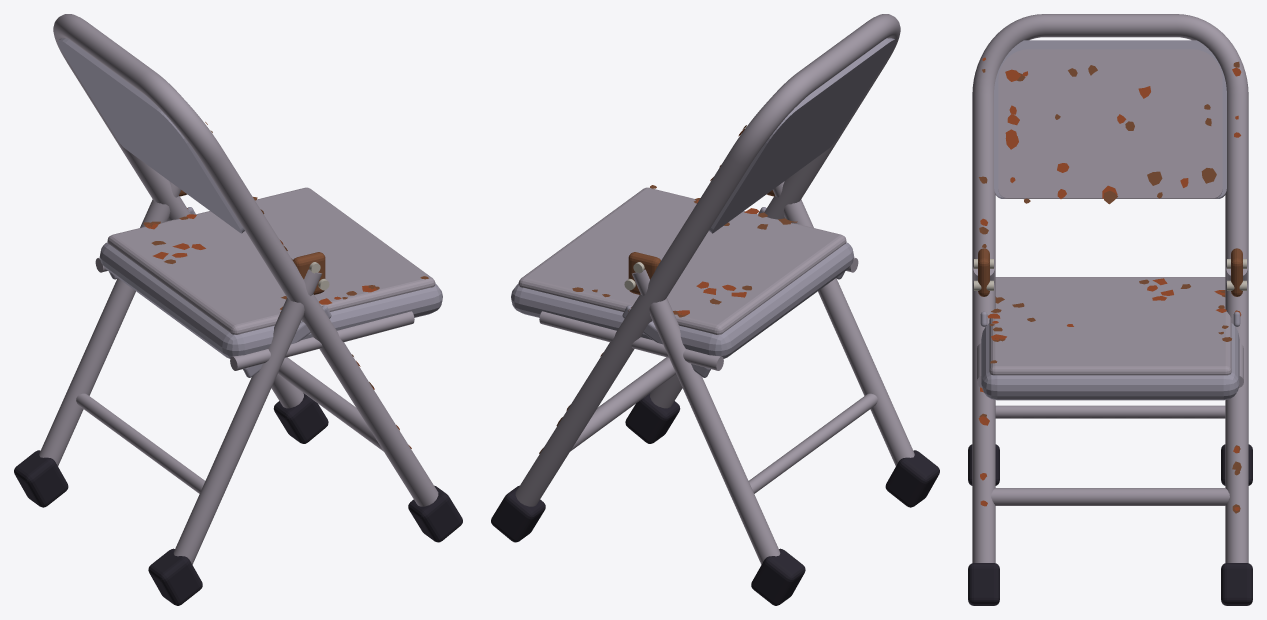
The picture shows the model from 3 angles, left to right: view 1: azimuth 30°, elevation 25°; view 2: azimuth 150°, elevation 25°; view 3: azimuth 270°, elevation 25°; orthographic projection. The views are drawn at different scales.
Visible parts, largest first — view 1: seat_hairSilver, static_hairSilver, rearLegs_hairSilver, static_denimStitch, seat_denimStitch, rearLegs_uiDark, static_uiDark, static_leatherShadow; view 2: seat_hairSilver, static_hairSilver, rearLegs_hairSilver, static_denimStitch, seat_denimStitch, rearLegs_uiDark, static_uiDark, static_leatherShadow; view 3: static_hairSilver, seat_hairSilver, seat_denimStitch, rearLegs_hairSilver, static_denimStitch, static_uiDark, static_leatherShadow, static_hairCopper, rearLegs_uiDark, seat_hairCopper, seat_leatherShadow, static_silver.
Boxes of the visible parts, box(x1,y1,x2,y2) form: seat_hairSilver: box(95, 187, 435, 370); static_hairSilver: box(53, 14, 438, 506); rearLegs_hairSilver: box(39, 181, 321, 564); static_denimStitch: box(58, 38, 244, 233); seat_denimStitch: box(99, 207, 442, 377); rearLegs_uiDark: box(14, 450, 202, 605); static_uiDark: box(273, 393, 462, 542); static_leatherShadow: box(179, 130, 373, 387); seat_hairSilver: box(518, 187, 858, 370); static_hairSilver: box(515, 14, 900, 506); rearLegs_hairSilver: box(632, 181, 914, 564); static_denimStitch: box(709, 38, 895, 233); seat_denimStitch: box(511, 207, 854, 377); rearLegs_uiDark: box(751, 450, 939, 605); static_uiDark: box(491, 393, 680, 542); static_leatherShadow: box(539, 125, 774, 453); static_hairSilver: box(972, 14, 1248, 563); seat_hairSilver: box(977, 277, 1243, 387); seat_denimStitch: box(980, 311, 1240, 400); rearLegs_hairSilver: box(973, 267, 1247, 418); static_denimStitch: box(994, 40, 1226, 198); static_uiDark: box(968, 563, 1252, 605); static_leatherShadow: box(978, 61, 1242, 513); static_hairCopper: box(978, 57, 1241, 510); rearLegs_uiDark: box(968, 444, 1252, 485); seat_hairCopper: box(987, 278, 1226, 340); seat_leatherShadow: box(989, 279, 1231, 363); static_silver: box(974, 259, 1246, 290).
Bounding box in the file's own units: 0.6492 × 1.04 × 0.563.
